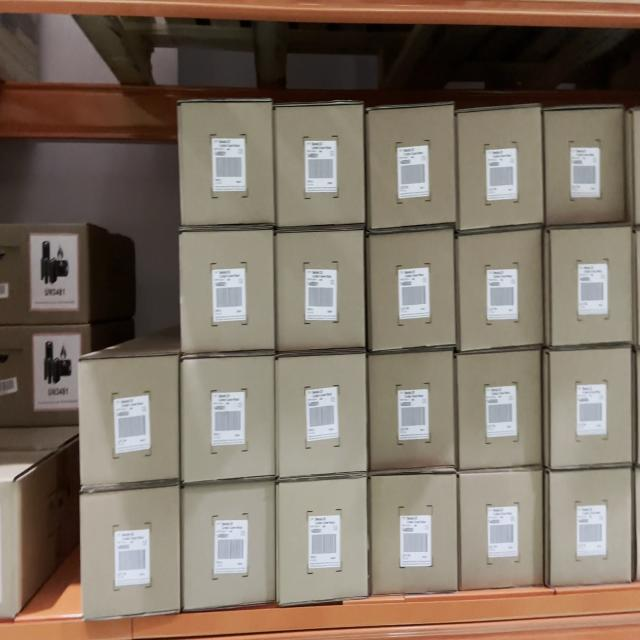box: (80, 489, 184, 618), (79, 356, 182, 484), (179, 99, 274, 233), (181, 354, 277, 483), (275, 352, 370, 476), (179, 228, 275, 350), (548, 346, 640, 472), (277, 99, 367, 227), (184, 484, 278, 606), (274, 227, 366, 351), (547, 226, 639, 350), (368, 348, 456, 477), (457, 226, 548, 350), (277, 477, 369, 599), (367, 105, 458, 227), (459, 465, 546, 588), (457, 353, 546, 471), (370, 476, 460, 592), (543, 108, 631, 225), (459, 108, 545, 227), (371, 232, 458, 346), (549, 468, 635, 582)
